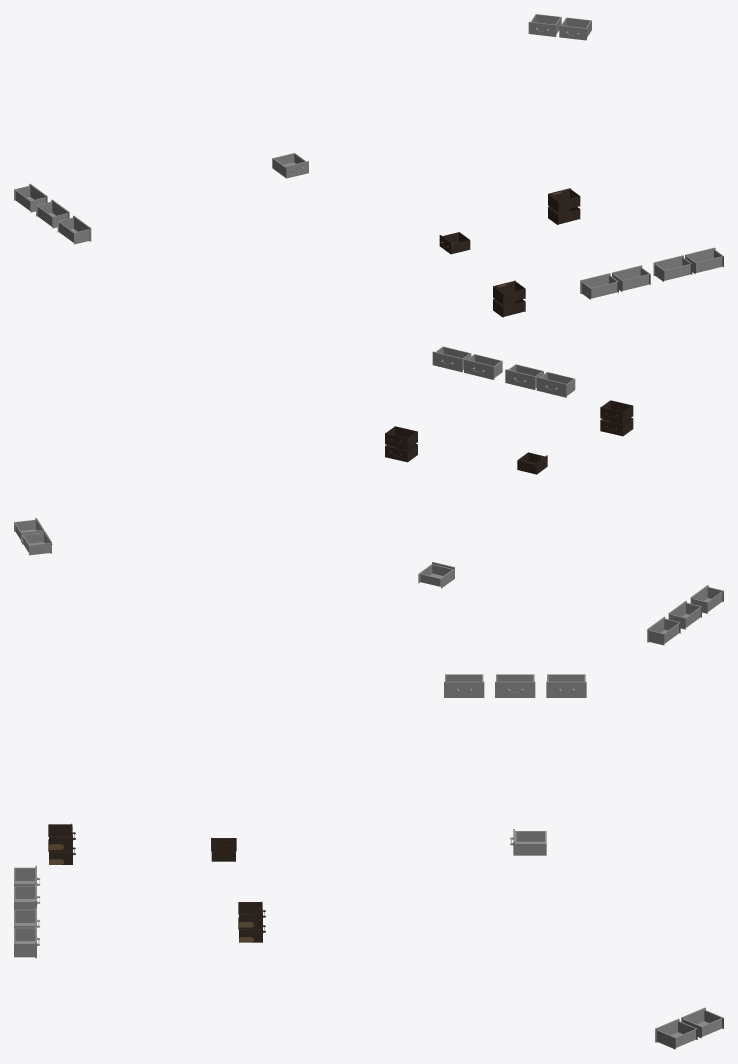
The model's file is surab_outline.FBX.
3 views of the same model, one above another, from view 1: azimuth 30°, elevation 25°; view 2: azimuth 150°, elevation 25°; view 3: azimuth 270°, elevation 25° (orthographic). The views are drawn at different scales.
Visible parts, largest first — view 1: checkjang_L_surab_R_, checkjang_R_surab_R_, checkjang_R_surab_L_, gyedan_sunab_surab_L, checkjang_L_surab_L_, gyedan_sunab_surab_M, gyedan_sunab_surab_R, goesil_sofa_side_surab_top, geosil_jangsickjang_side_surab_top; view 2: geosil_wall_surab, gyedan_sunab_surab_R, gyedan_sunab_surab_L, gyedan_sunab_surab_M, kitchen_sunabjang_surab_L; view 3: kitchen_sunabjang_surab_R, geosil_wall_surab, kitchen_sunabjang_surab_L, checkjang_L_surab_L_, gyedan_sunab_surab_L_outline, gyedan_sunab_surab_M_outline, gyedan_sunab_surab_R_outline, goesil_sofa_side_surab_top, geosil_jangsickjang_side_surab_top, geosil_island_surab.
Part boxes in pixels (x1,y1,x2,y2): checkjang_L_surab_R_: [653, 255, 692, 281]; checkjang_R_surab_R_: [580, 273, 618, 299]; checkjang_R_surab_L_: [612, 265, 650, 291]; gyedan_sunab_surab_L: [57, 215, 91, 244]; checkjang_L_surab_L_: [685, 247, 723, 273]; gyedan_sunab_surab_M: [36, 199, 69, 228]; gyedan_sunab_surab_R: [14, 183, 47, 212]; goesil_sofa_side_surab_top: [548, 188, 580, 212]; geosil_jangsickjang_side_surab_top: [493, 280, 525, 304]; geosil_wall_surab: [418, 562, 454, 588]; gyedan_sunab_surab_R: [647, 616, 680, 645]; gyedan_sunab_surab_L: [690, 585, 723, 613]; gyedan_sunab_surab_M: [668, 601, 701, 629]; kitchen_sunabjang_surab_L: [22, 530, 51, 555]; kitchen_sunabjang_surab_R: [655, 1018, 697, 1049]; geosil_wall_surab: [513, 829, 546, 855]; kitchen_sunabjang_surab_L: [681, 1007, 723, 1038]; checkjang_L_surab_L_: [14, 925, 36, 958]; gyedan_sunab_surab_L_outline: [444, 682, 484, 697]; gyedan_sunab_surab_M_outline: [495, 682, 535, 697]; gyedan_sunab_surab_R_outline: [546, 682, 586, 697]; goesil_sofa_side_surab_top: [238, 901, 262, 927]; geosil_jangsickjang_side_surab_top: [48, 823, 72, 849]; geosil_island_surab: [211, 838, 236, 861].
Bounding box in the file's own units: 1448 × 60.78 × 1231.
